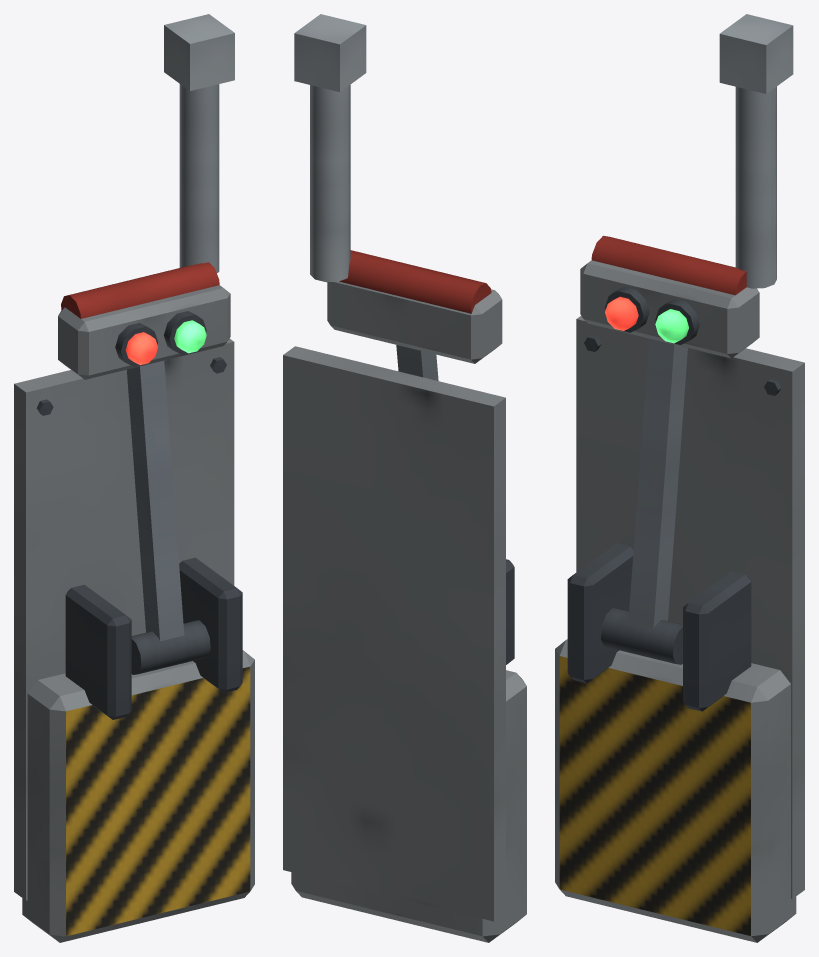
The model's file is lever_wall.fbx.
The picture shows the model from 3 angles, left to right: view 1: azimuth 30°, elevation 25°; view 2: azimuth 150°, elevation 25°; view 3: azimuth 330°, elevation 25°; orthographic projection. The views are drawn at different scales.
Parts seen in each view (by area): view 1: lever_wall, lever_wall_arm, lever_wall_lamp, lever_wall_lamp_idle; view 2: lever_wall, lever_wall_arm; view 3: lever_wall, lever_wall_arm, lever_wall_lamp, lever_wall_lamp_idle.
Part boxes in pixels (<box>): lever_wall: <box>14,14,254,942</box>; lever_wall_arm: <box>61,262,219,674</box>; lever_wall_lamp: <box>174,320,206,353</box>; lever_wall_lamp_idle: <box>125,332,157,365</box>; lever_wall: <box>283,14,526,942</box>; lever_wall_arm: <box>339,250,491,380</box>; lever_wall: <box>555,14,804,942</box>; lever_wall_arm: <box>591,235,746,664</box>; lever_wall_lamp: <box>655,309,688,343</box>; lever_wall_lamp_idle: <box>605,296,638,330</box>.
Bounding box in the file's own units: 0.3 × 1.18 × 0.1525.
1 material, 1 textured.
